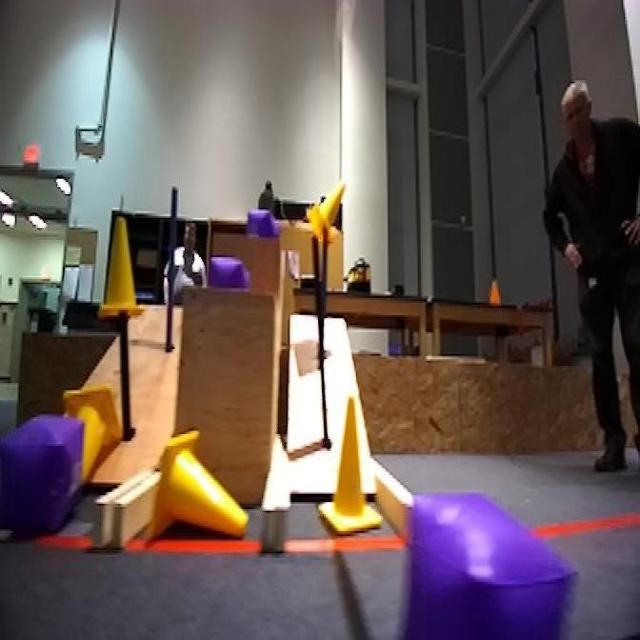frc_cone: (150, 427, 252, 552), (312, 393, 384, 536), (56, 385, 117, 490), (96, 213, 145, 318), (311, 176, 354, 248)
frc_cube: (398, 504, 564, 635), (0, 412, 82, 533), (208, 252, 246, 286), (246, 204, 279, 238)
